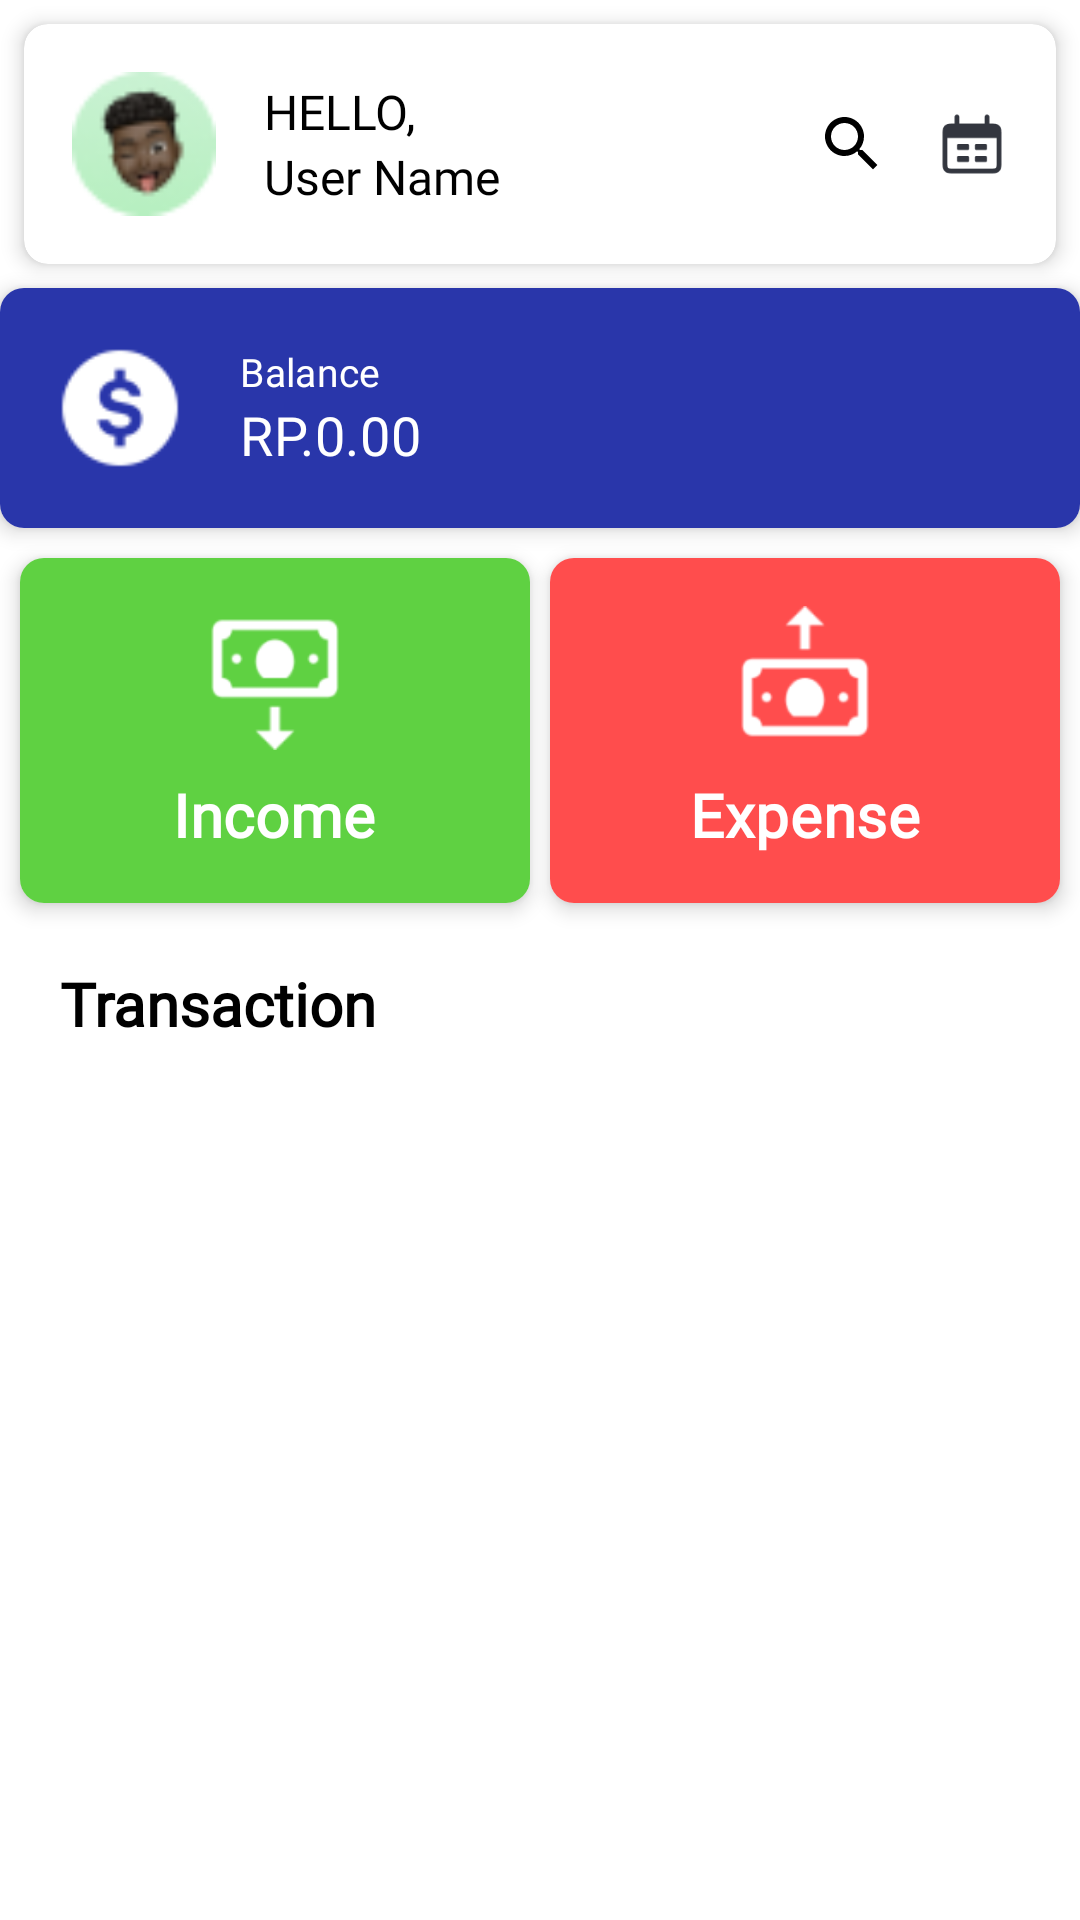

Locate icon controls on the screen. Image size 1080x1920, boxes as (x1, y1, x2, y2).
date: (942, 114, 1002, 174)
dollar: (61, 349, 179, 467)
search: (825, 117, 877, 169)
